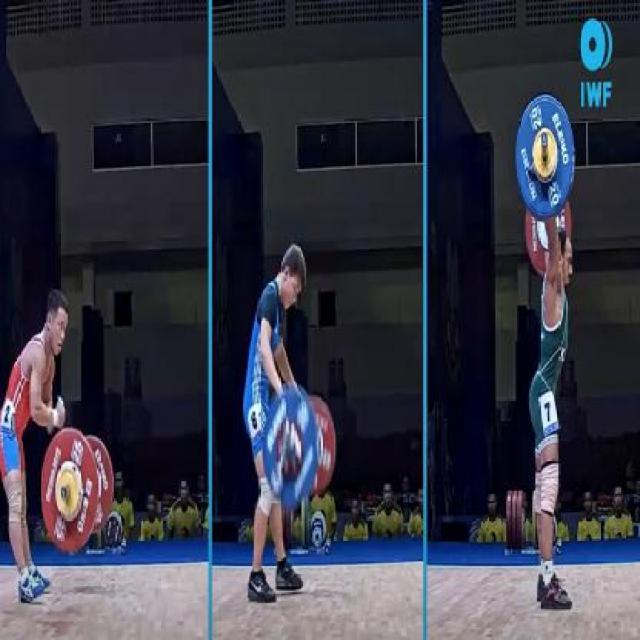Barbell: (59, 484, 70, 504), (542, 126, 550, 152)
